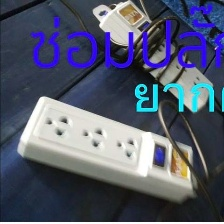three_eye_plug: (10, 92, 198, 209), (89, 0, 217, 116)
